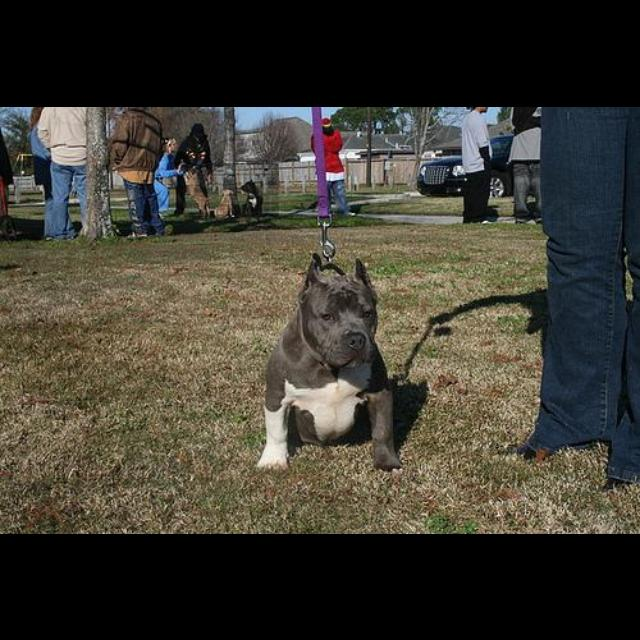amstaff: (256, 252, 404, 473)
person: (106, 108, 168, 237), (40, 108, 91, 239), (312, 116, 360, 216), (511, 107, 546, 223), (463, 108, 495, 225)
